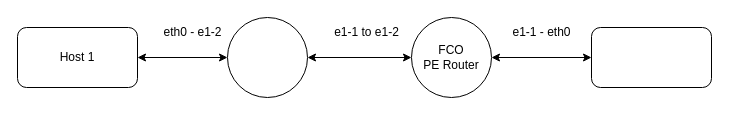
The diagram is 729 pixels wide and 115 high, and some of its shapes have lost their labels. Each missing label, with the box of its shape:
AMS PE Router: (226, 16, 308, 98)
Host 2: (590, 26, 712, 88)
